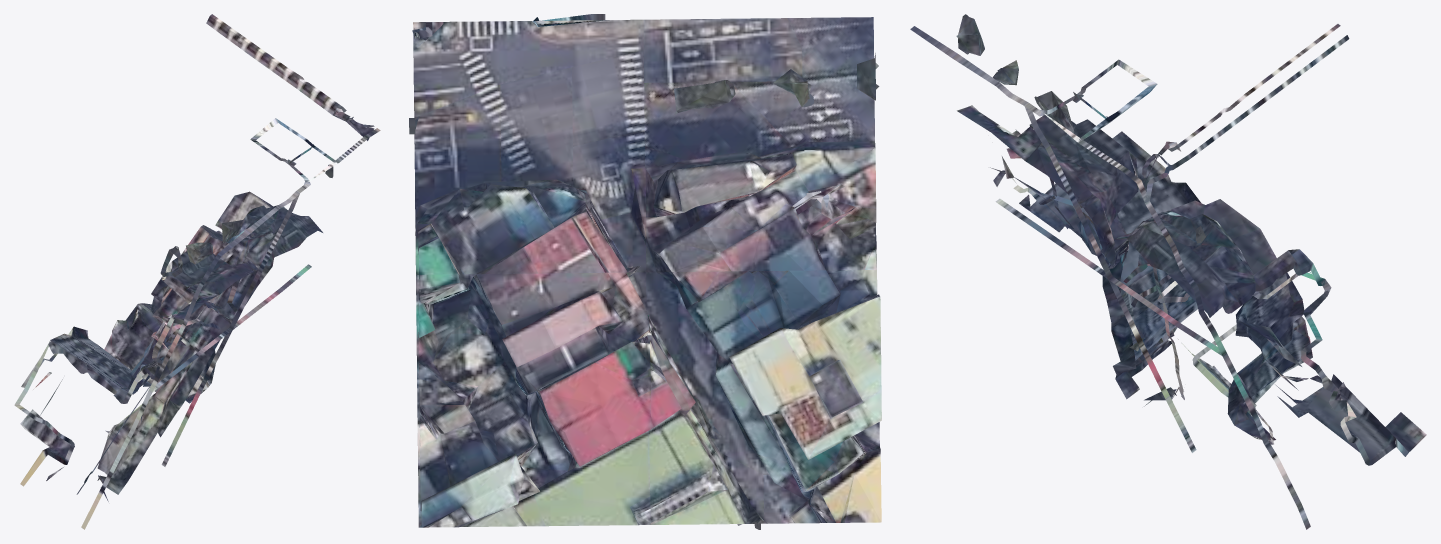
The picture shows the model from 3 angles, left to right: view 1: azimuth 30°, elevation 25°; view 2: azimuth 150°, elevation 25°; view 3: azimuth 270°, elevation 25°; orthographic projection. The views are drawn at different scales.
Size of the model in its own units: 84.25 by 87.38 by 82.99.
1 material, 1 textured.
